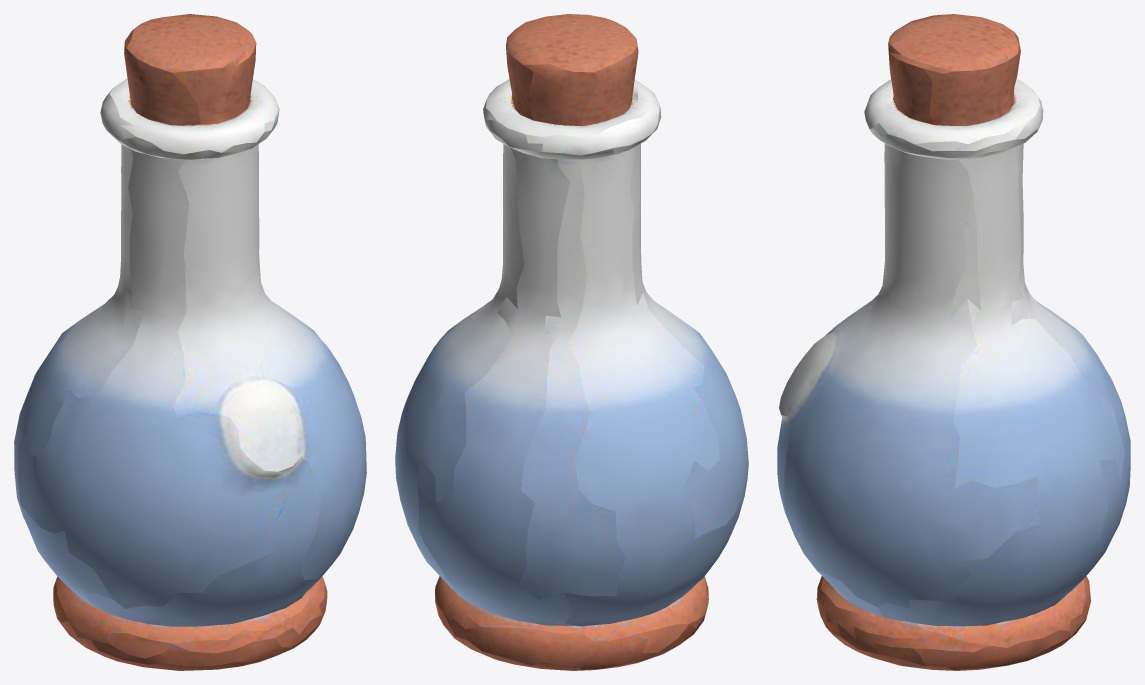
The model's file is a-tall-glass-flask-potion-with-b-43645f.glb.
The picture shows the model from 3 angles, left to right: view 1: azimuth 30°, elevation 25°; view 2: azimuth 150°, elevation 25°; view 3: azimuth 270°, elevation 25°; orthographic projection.
Visible parts, largest first — view 1: geometry_0; view 2: geometry_0; view 3: geometry_0.
Part boxes in pixels (x1,y1,x2,y2): geometry_0: (14,14,366,670); geometry_0: (395,14,748,670); geometry_0: (777,14,1130,670).
Size of the model in its own units: 0.5484 by 1 by 0.5487.
Materials: 1 (1 with a texture image).
